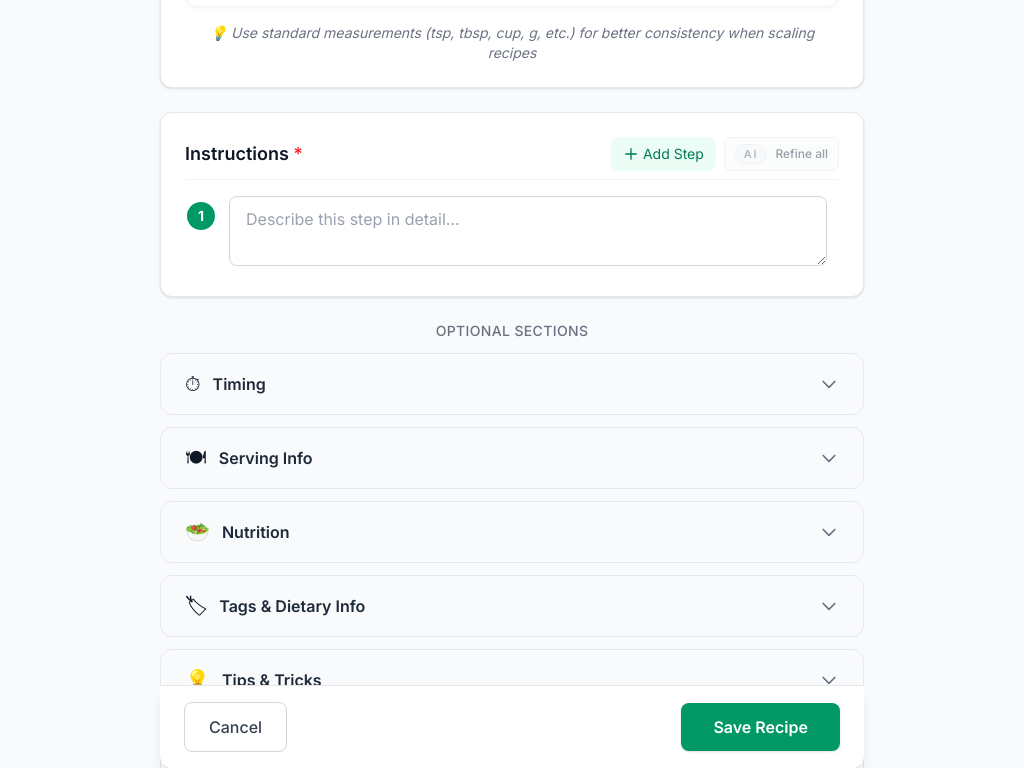
Test: SimpleCreateRecipe › collapses an open section when clicked again
The image size is (1024, 768).
(page scrolled)
Click the button "⏱ Timing".
click(239, 384)  # box [161, 354, 863, 414]
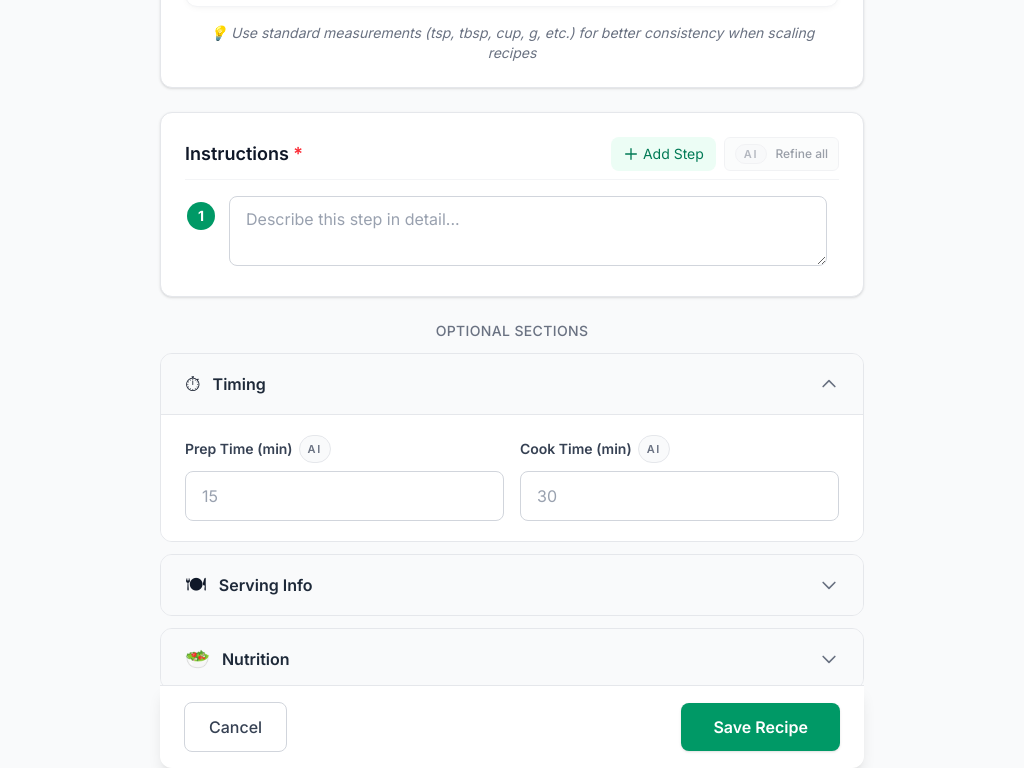
Now the button "⏱ Timing" is expanded
Click the button "⏱ Timing".
click(239, 384)  # box [161, 354, 863, 414]
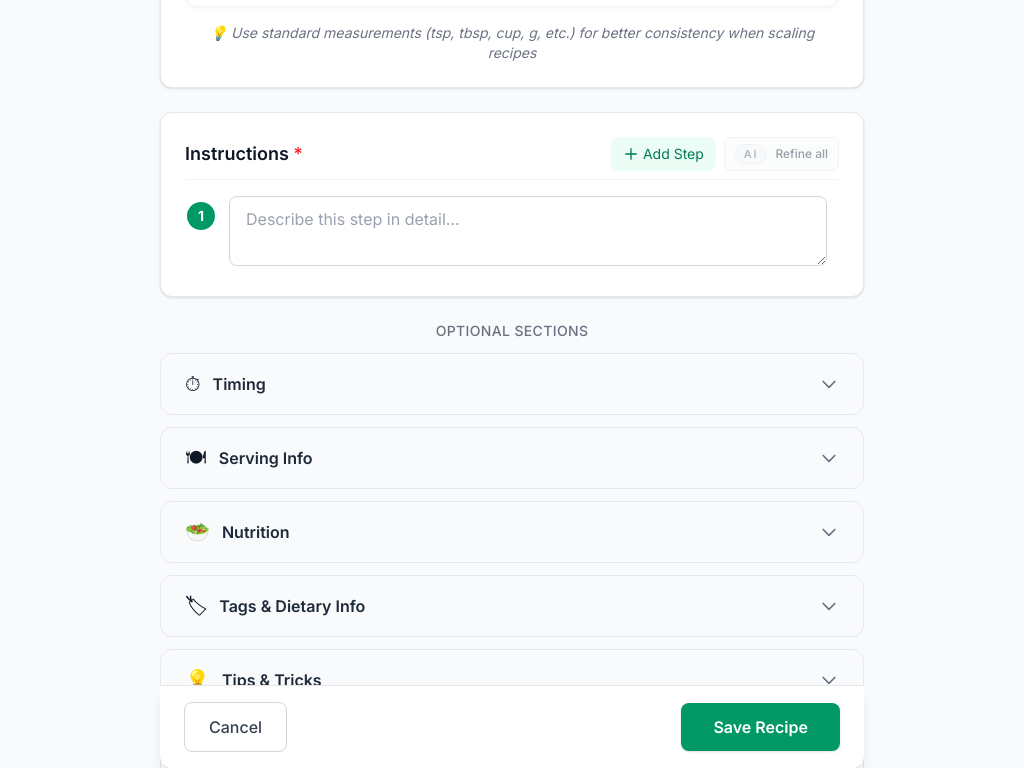
Now the button "⏱ Timing" is collapsed, box [161, 354, 863, 414]
